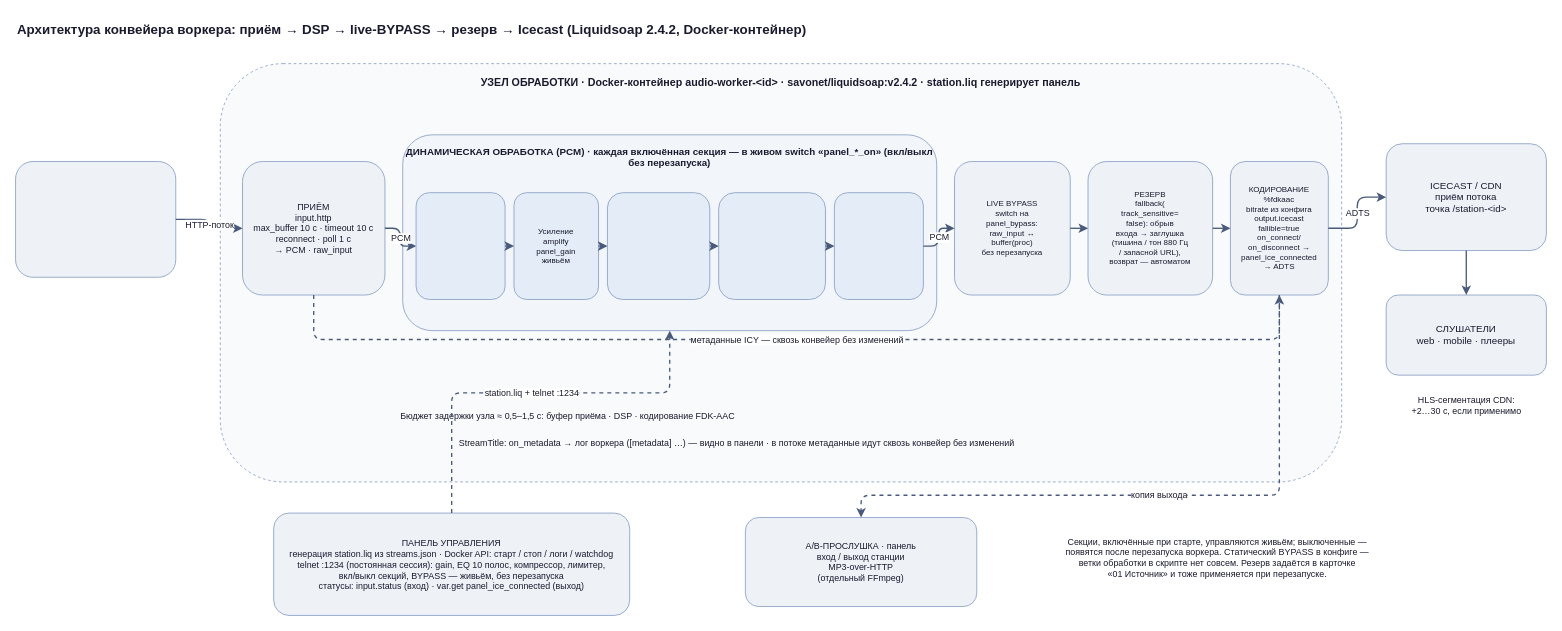
This 1562x631 diagram has some shape labels left out. The shapes that lost their labels are listed below. From the top down, each one's centre as x and y in pixels, then its label:
At point (95, 219): "ВХОДНОЙ ПОТОК AAC / HE-AAC / MP3 метаданные ICY (StreamTitle)".
At point (460, 245): "EQ 10 полос нативные IIR-пики gain живьём".
At point (658, 245): "Компрессор compress нативный порог/ratio/ attack/release/ makeup живьём".
At point (771, 245): "LUFS loudnorm динам. режим ffmpeg-граф (raw-обёртка) на перезапуске".
At point (878, 245): "Лимитер limit нативный ceiling/attack/ release живьём".
